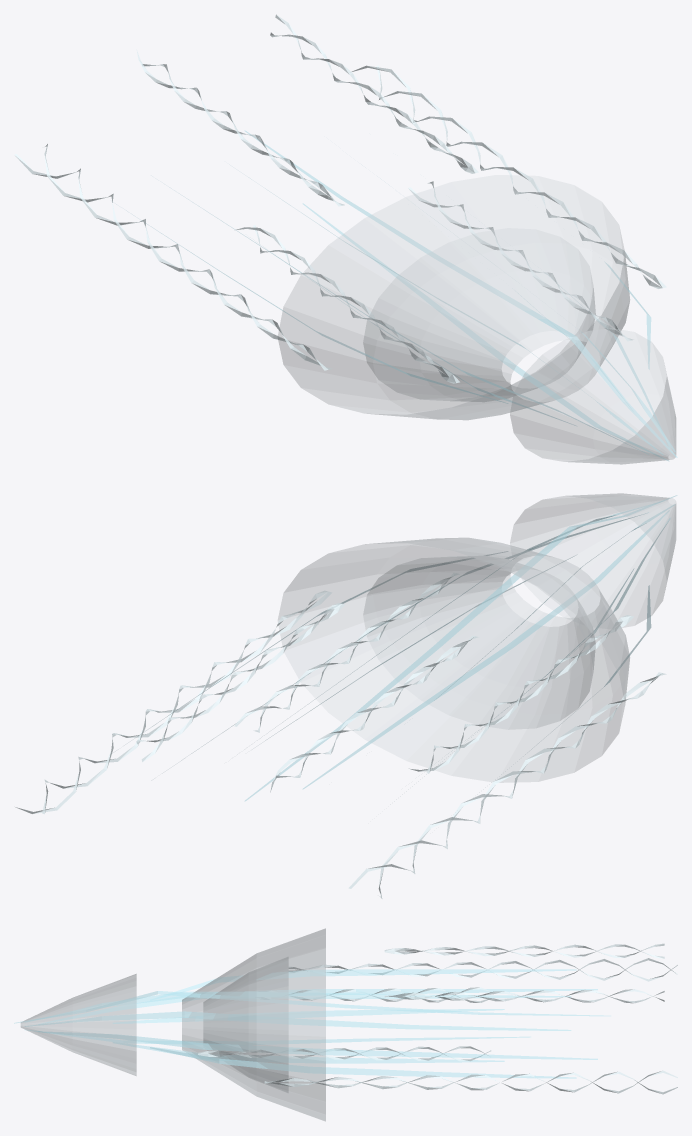
The model's file is supersonic_wind_vfx_prefab.obj.
The picture shows the model from 3 angles, top to bottom: view 1: azimuth 30°, elevation 25°; view 2: azimuth 150°, elevation 25°; view 3: azimuth 270°, elevation 25°; orthographic projection. The views are drawn at different scales.
Parts seen in each view (by area): view 1: mach_vapor_cone, wingtip_vortices, slipstream_ribbons; view 2: mach_vapor_cone, wingtip_vortices, slipstream_ribbons; view 3: mach_vapor_cone, slipstream_ribbons, wingtip_vortices.
Boxes of the visible parts, <box> form: mach_vapor_cone: <box>278,175,676,464</box>; wingtip_vortices: <box>14,14,666,383</box>; slipstream_ribbons: <box>116,130,677,461</box>; mach_vapor_cone: <box>278,493,676,782</box>; wingtip_vortices: <box>15,573,666,898</box>; slipstream_ribbons: <box>137,495,677,801</box>; mach_vapor_cone: <box>20,928,325,1121</box>; slipstream_ribbons: <box>14,969,610,1078</box>; wingtip_vortices: <box>198,943,677,1094</box>.
Bounding box in the file's own units: 10.93 × 6.45 × 24.9.
